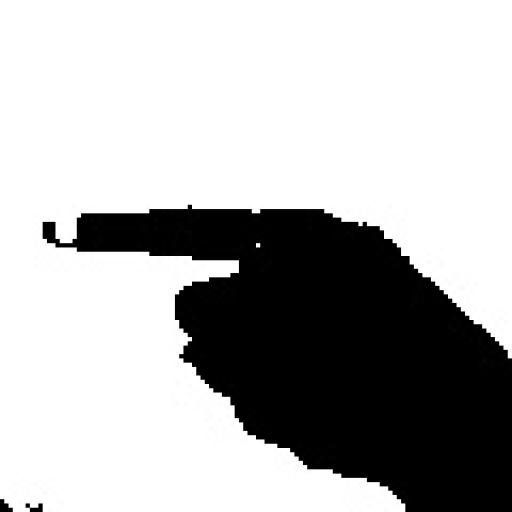index_left: (40, 203, 512, 423)
